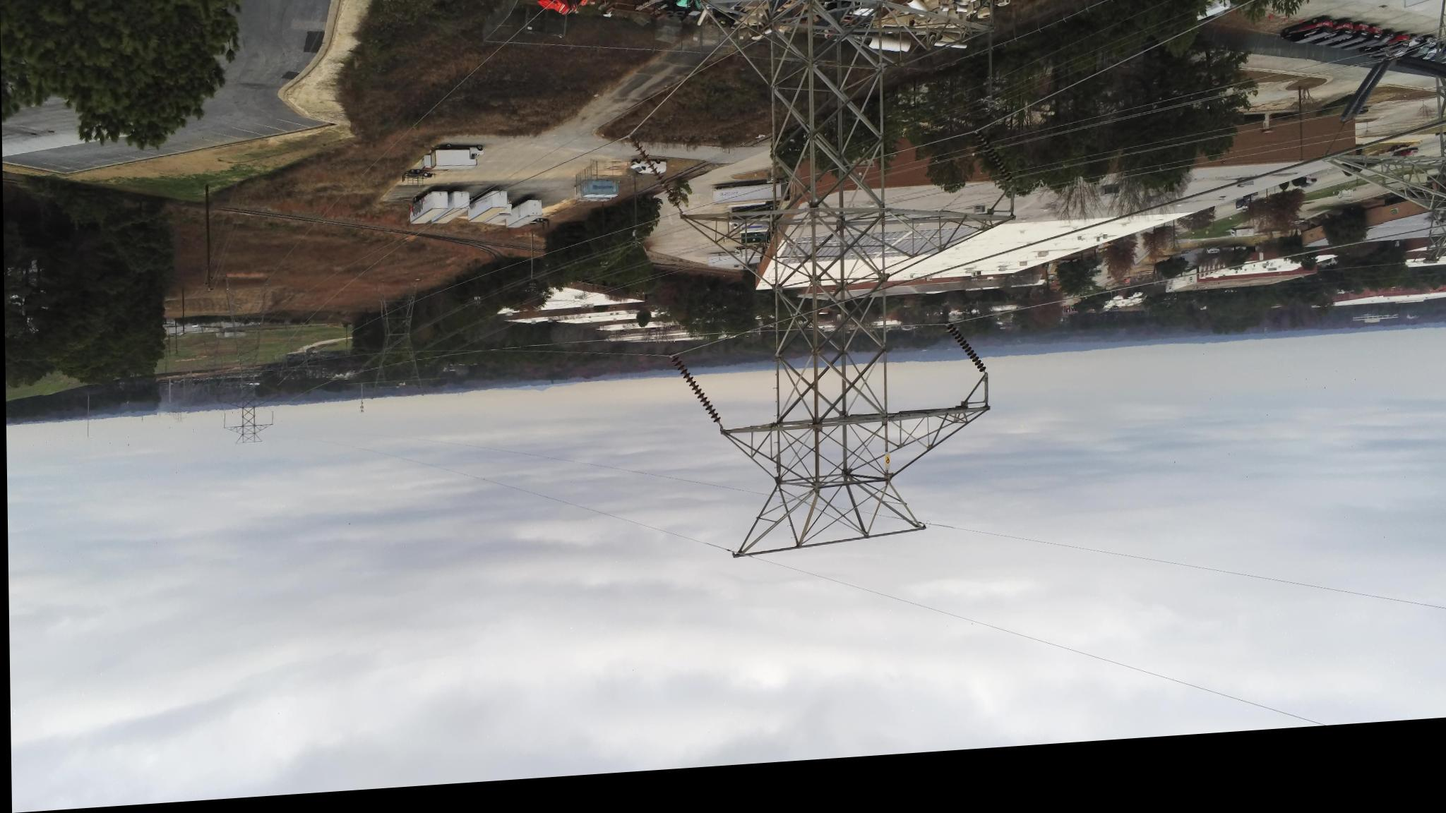tower: (69, 120, 1383, 563)
